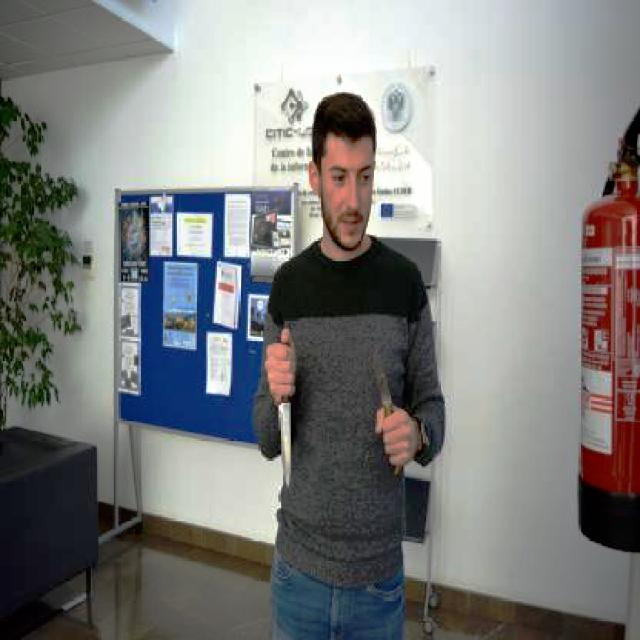Knife: (273, 391, 305, 493), (364, 351, 401, 428)
